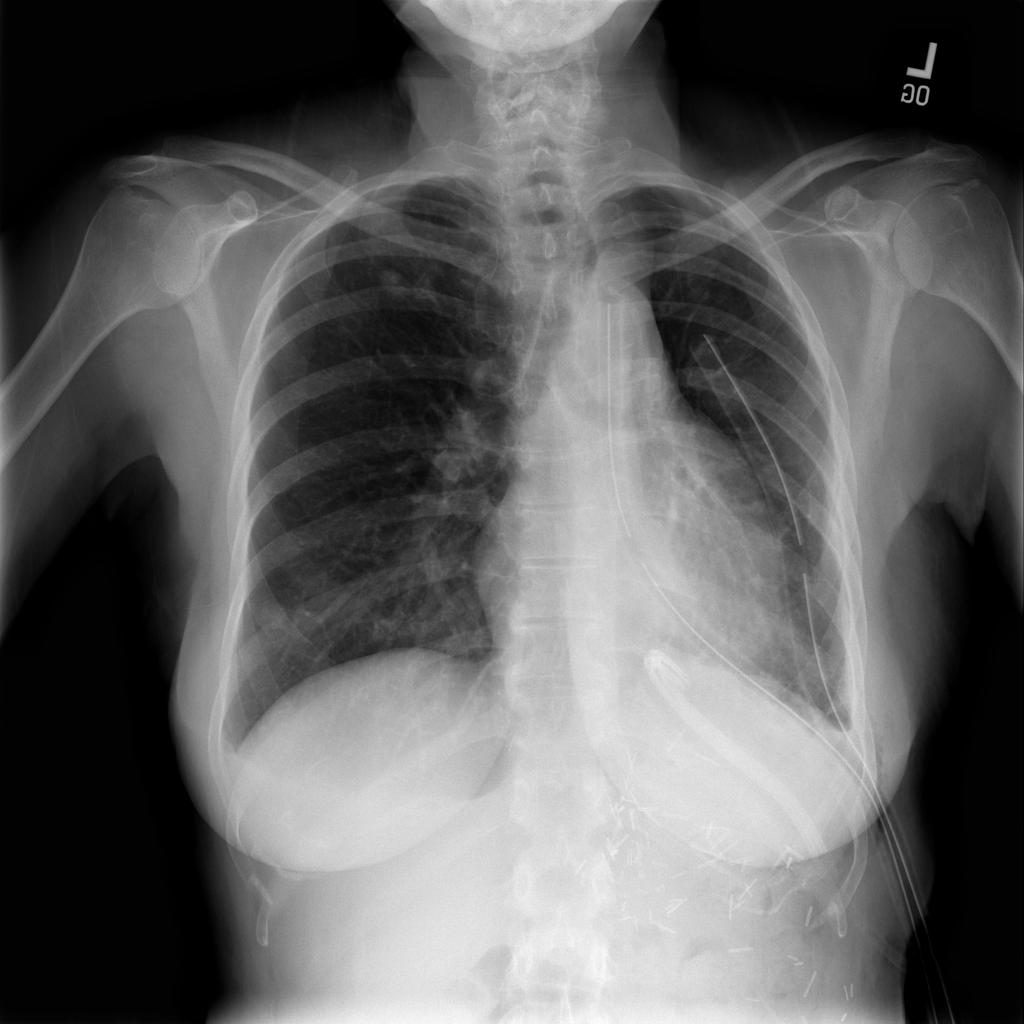nodule: (248, 592, 299, 643), (363, 260, 422, 304)
